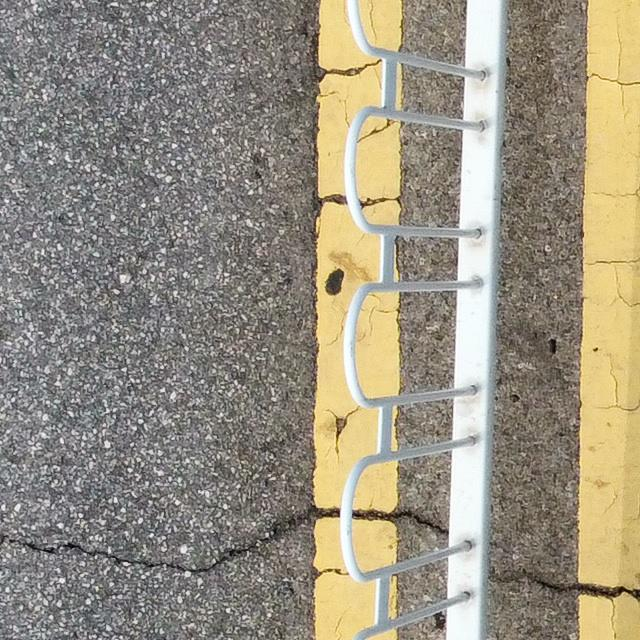TransverseCrack: (23, 508, 450, 573), (536, 578, 640, 602)
